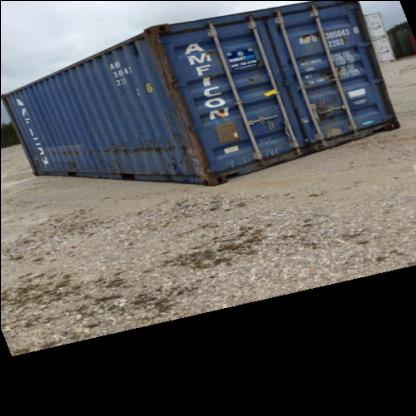Damage: (35, 132, 195, 158), (139, 34, 183, 92), (305, 96, 351, 125), (286, 21, 324, 49), (241, 52, 264, 86), (196, 40, 224, 64), (225, 150, 253, 171), (260, 136, 286, 158), (198, 152, 220, 176), (310, 62, 340, 79), (211, 100, 233, 114), (336, 29, 355, 45)
